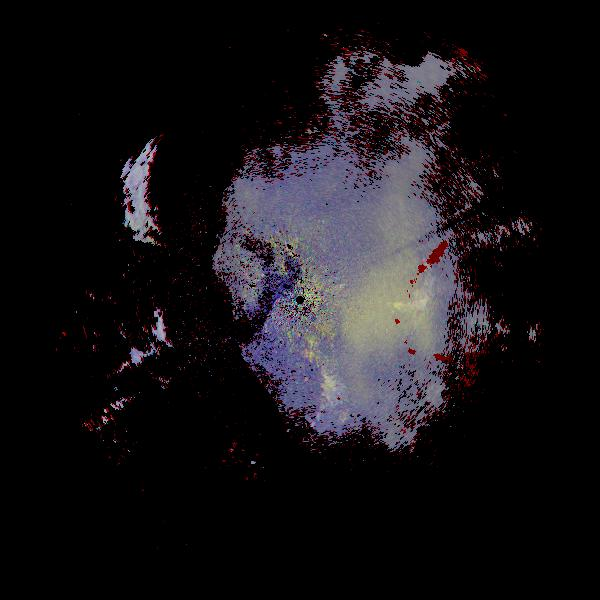roost: (243, 321, 360, 438)
